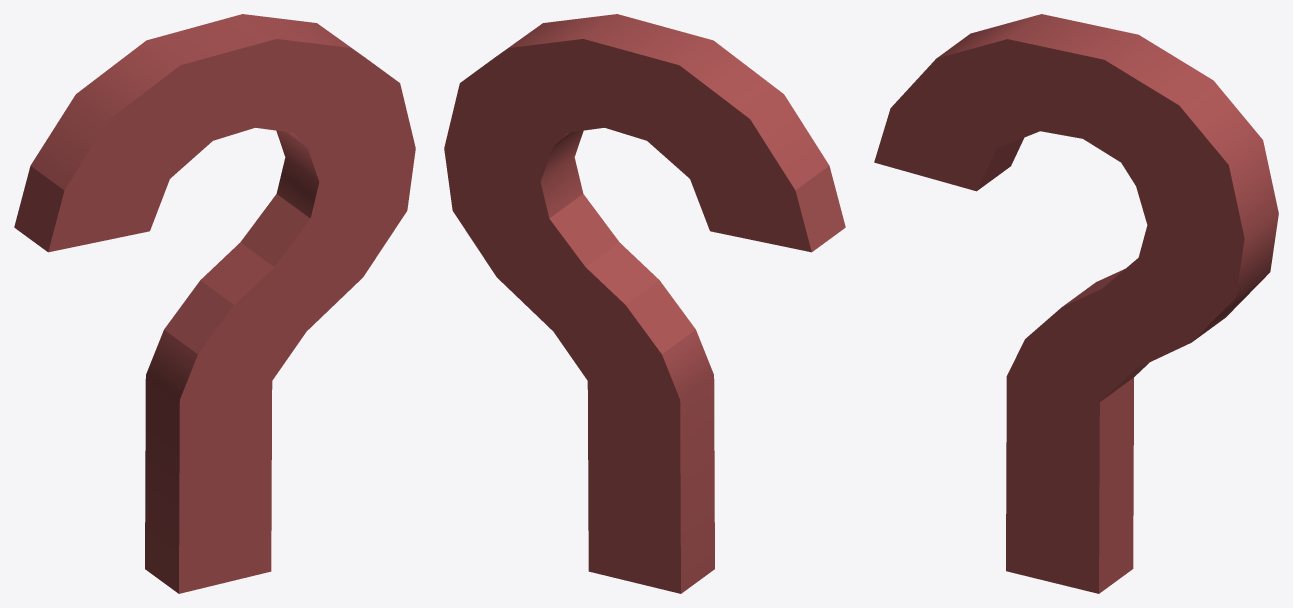
The picture shows the model from 3 angles, left to right: view 1: azimuth 30°, elevation 25°; view 2: azimuth 150°, elevation 25°; view 3: azimuth 330°, elevation 25°; orthographic projection.
Parts seen in each view (by area): view 1: pCube2; view 2: pCube2; view 3: pCube2.
Part boxes in pixels (x1,y1,x2,y2): pCube2: [14, 14, 415, 593]; pCube2: [444, 14, 845, 593]; pCube2: [874, 14, 1278, 593].
Bounding box in the file's own units: 3.22 × 4.45 × 0.5162.
